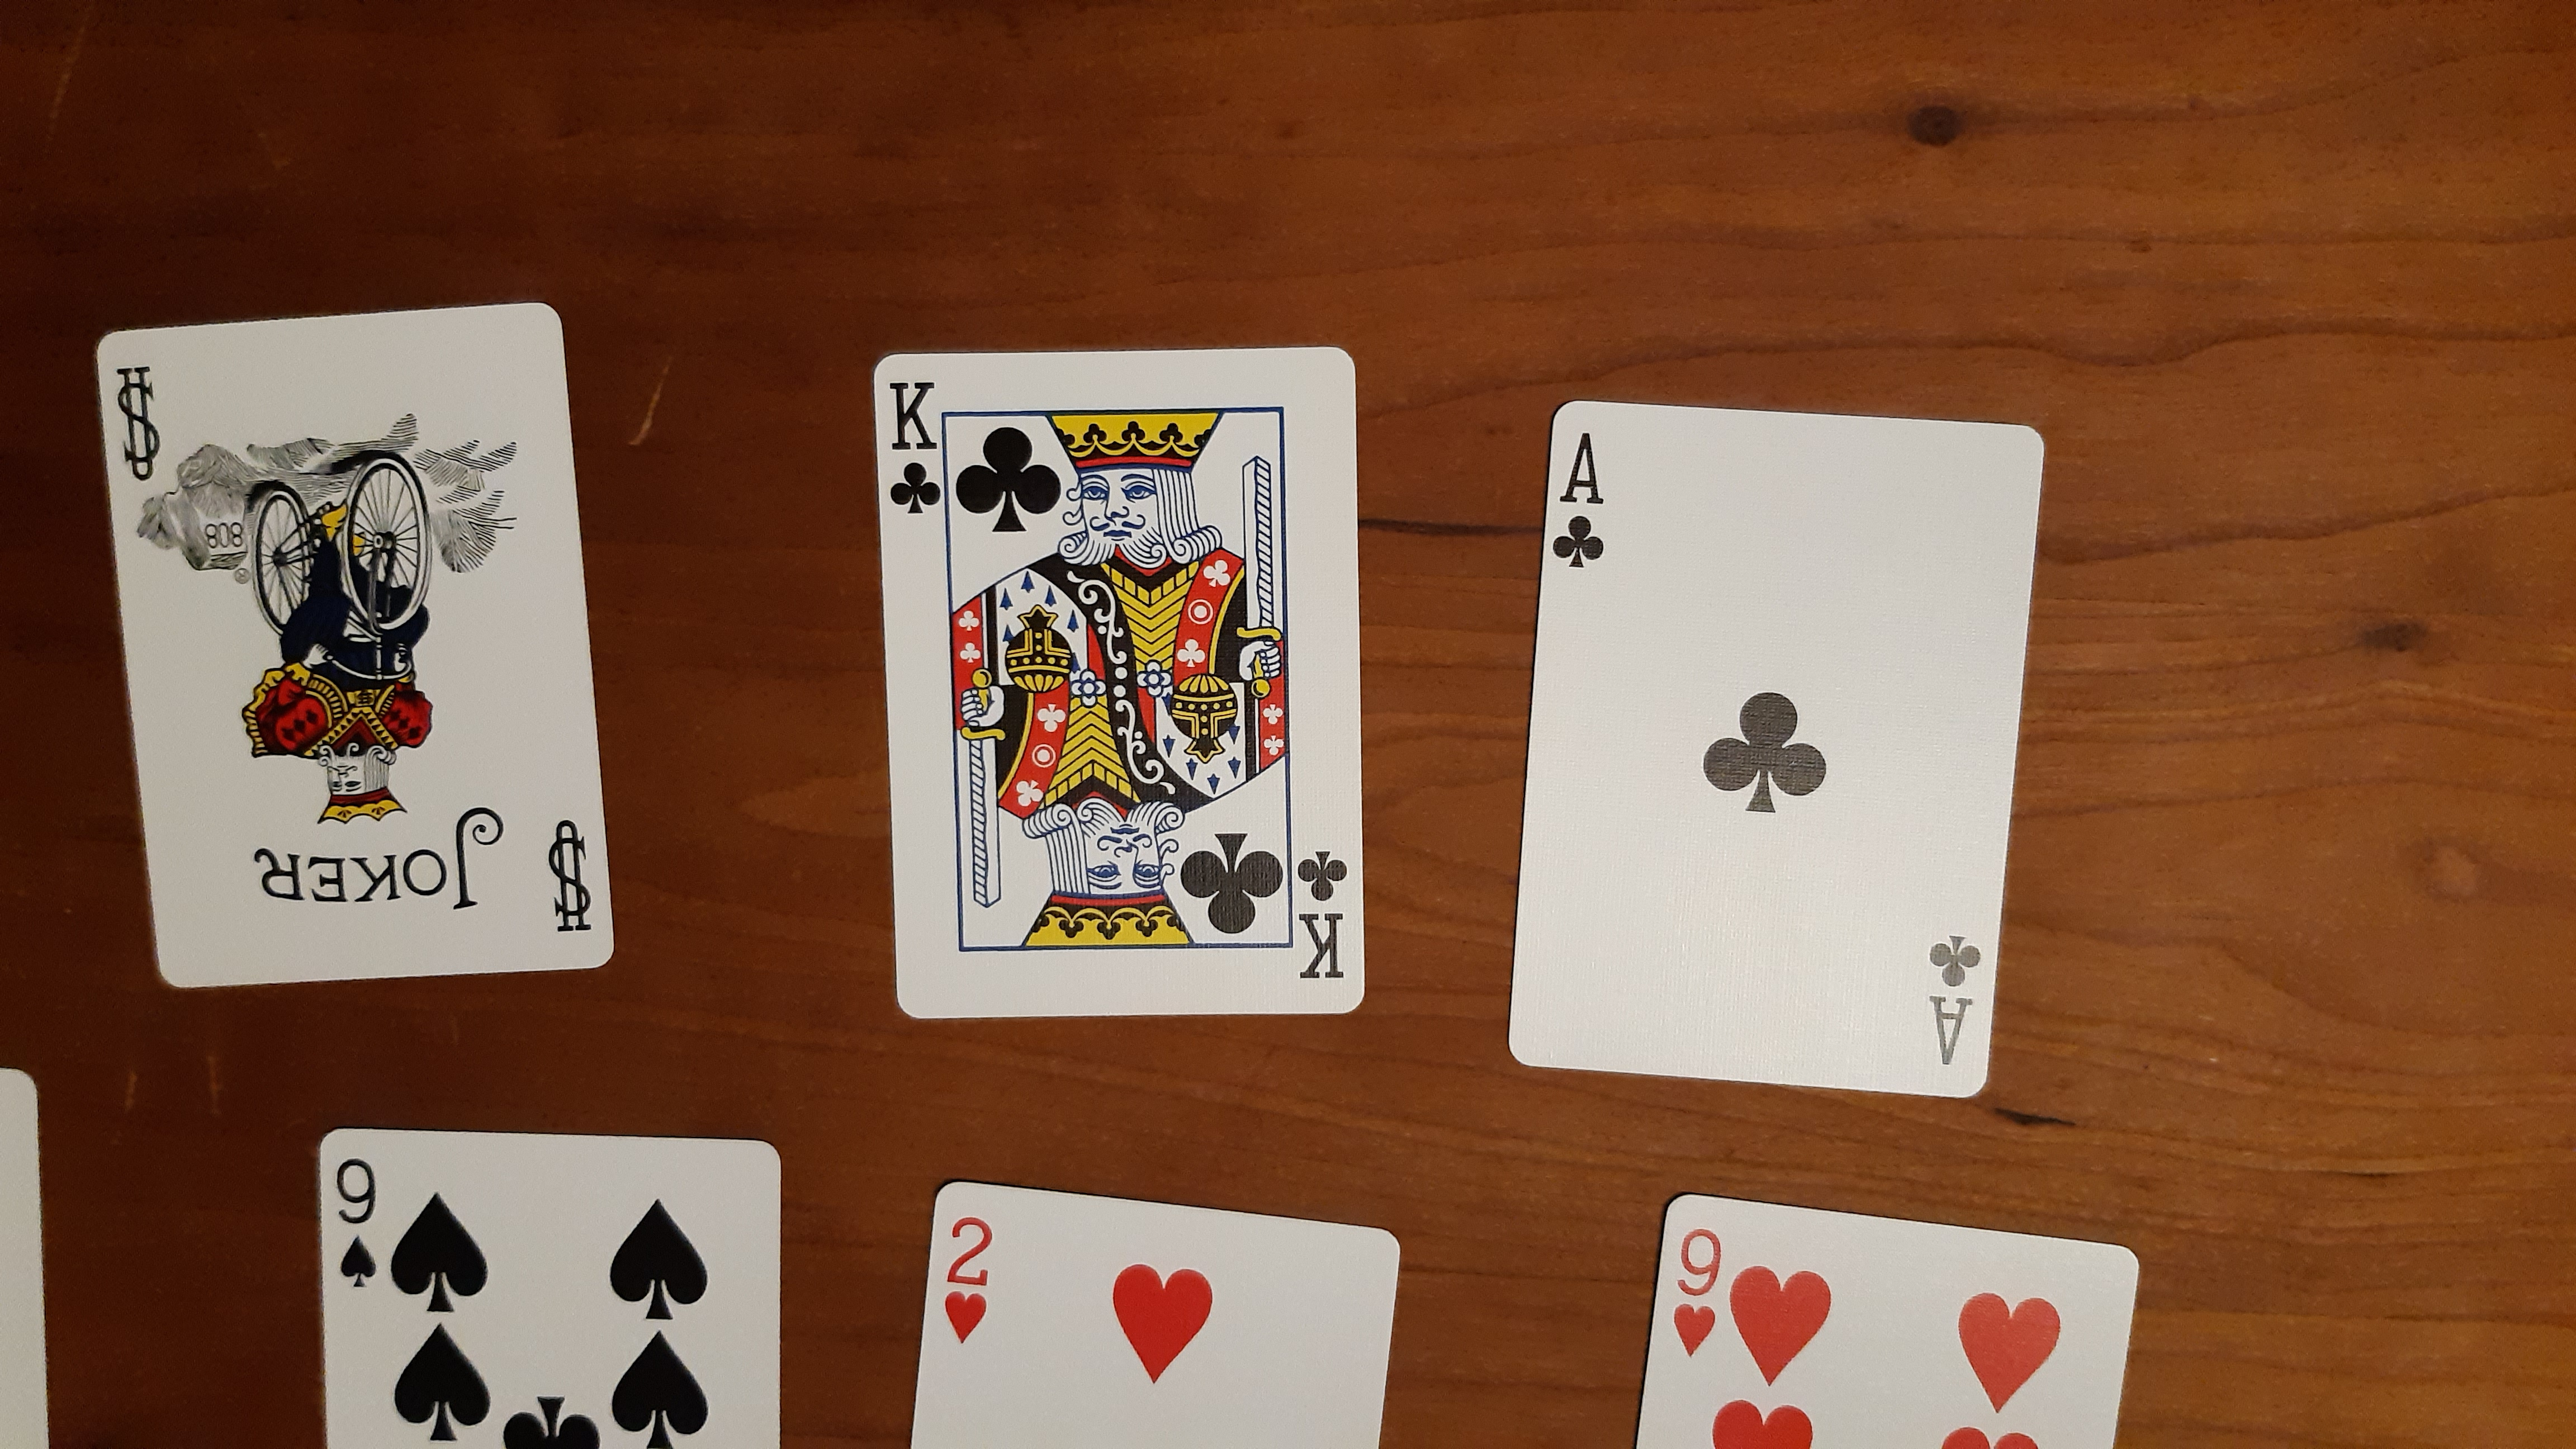Black_Club_Ace: (1545, 428, 1619, 579), (1920, 924, 1989, 1072)
Black_Club_King: (881, 366, 943, 522), (1290, 842, 1353, 991)
Black_Spade_9: (333, 1148, 732, 1445)
Joker: (239, 803, 510, 915)
Red_Heart_2: (941, 1210, 993, 1350)
